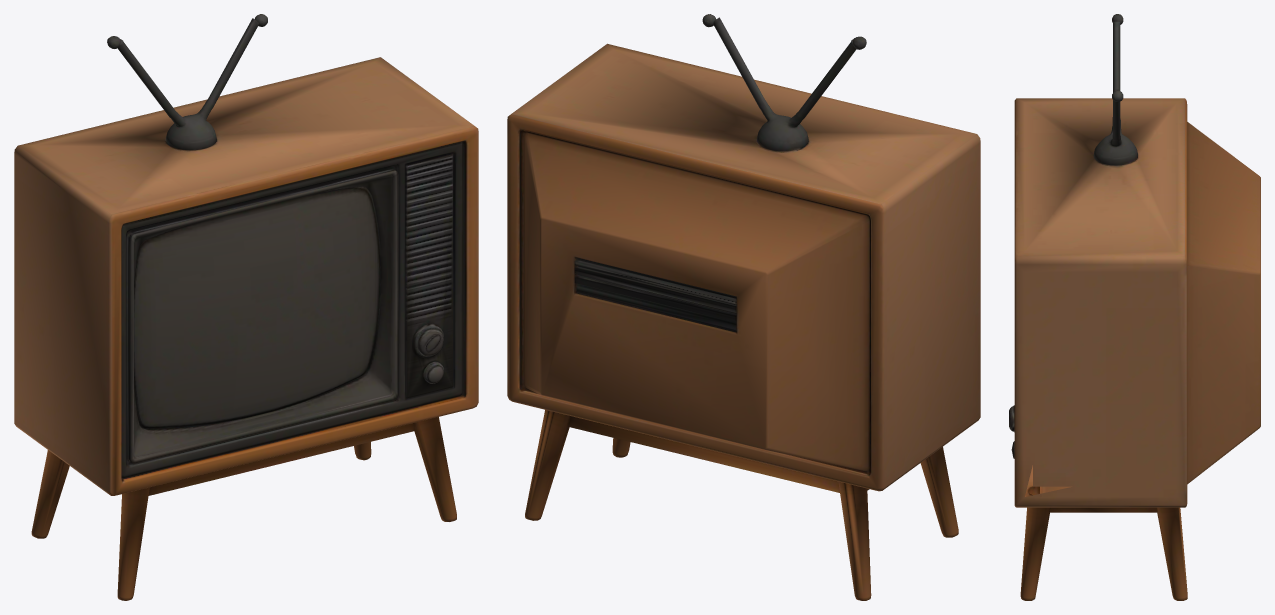
The model's file is television_realistic_style_7ace8cb8_v2.glb.
3 renders of one model, left to right at view 1: azimuth 30°, elevation 25°; view 2: azimuth 150°, elevation 25°; view 3: azimuth 270°, elevation 25°, orthographic. The views are drawn at different scales.
Parts seen in each view (by area): view 1: mesh_input; view 2: mesh_input; view 3: mesh_input.
Part boxes in pixels (x1,y1,x2,y2): mesh_input: (14,14,478,600); mesh_input: (507,14,980,600); mesh_input: (1009,14,1260,600).
Size of the model in its own units: 1.43 by 1.9 by 0.9414.
1 material, 1 textured.
